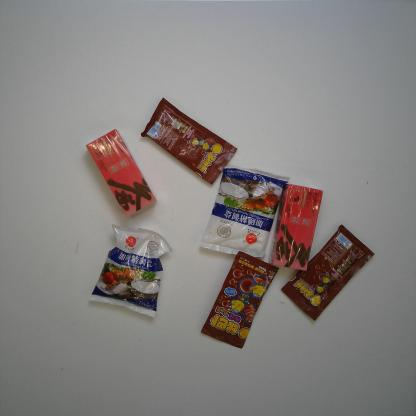Candy: (280, 224, 376, 324), (139, 96, 238, 186), (198, 251, 281, 350)
Instant Drink: (85, 129, 159, 217), (268, 182, 324, 272)
Seasoner: (195, 160, 292, 261), (86, 222, 173, 319)
